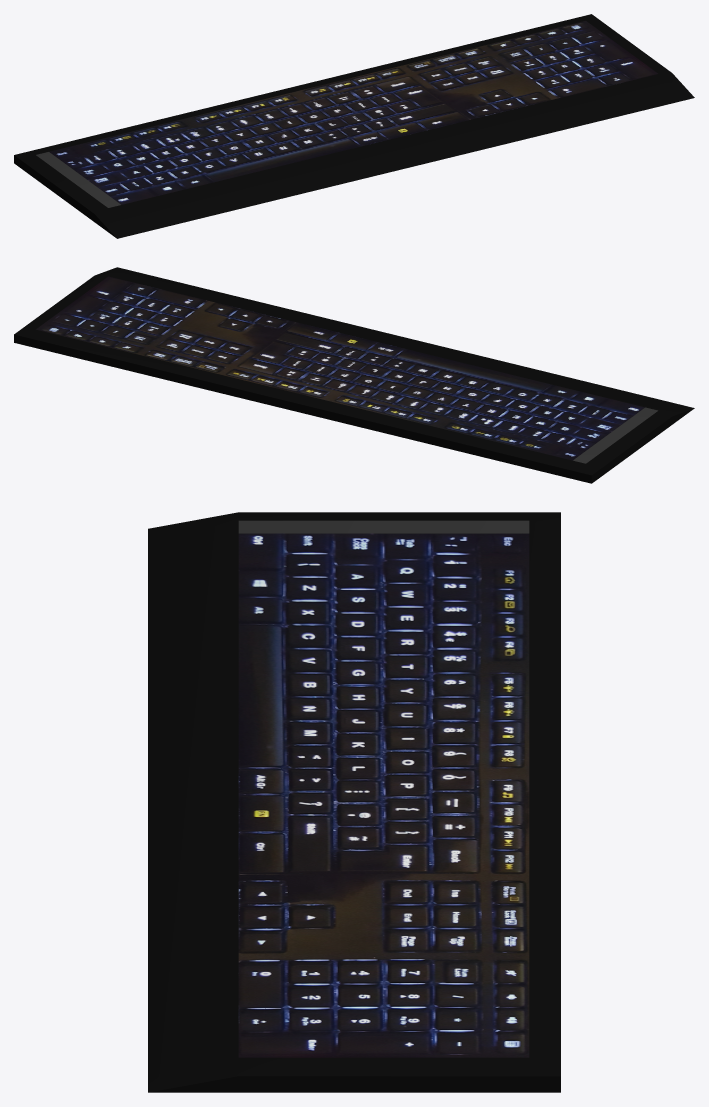
File: Keyboard.FBX
3 renders of one model, top to bottom at view 1: azimuth 30°, elevation 25°; view 2: azimuth 150°, elevation 25°; view 3: azimuth 270°, elevation 25°, orthographic. The views are drawn at different scales.
Visible parts, largest first — view 1: w; view 2: w; view 3: w.
Part boxes in pixels (<box>): w: <box>14,14,694,238</box>; w: <box>14,267,694,483</box>; w: <box>148,512,560,1092</box>.
Size of the model in its own units: 42 by 0.7494 by 13.
Materials: 2 (1 with a texture image).
